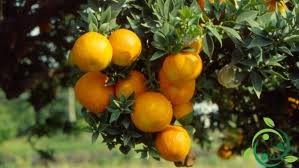orange: (73, 72, 110, 121), (73, 34, 112, 74), (131, 93, 172, 130), (165, 50, 204, 84), (159, 127, 192, 162), (114, 31, 143, 68)
